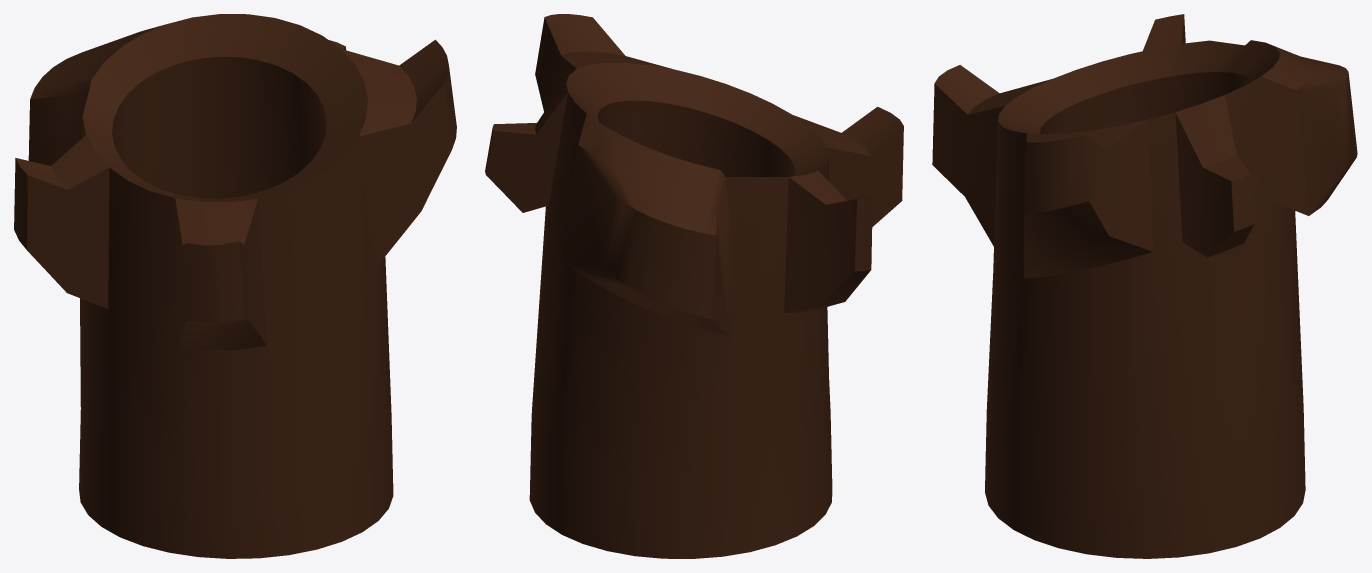
The model's file is Tronc 1.fbx.
3 renders of one model, left to right at view 1: azimuth 30°, elevation 25°; view 2: azimuth 150°, elevation 25°; view 3: azimuth 270°, elevation 25°, orthographic. The views are drawn at different scales.
Parts seen in each view (by area): view 1: Cylinder.093; view 2: Cylinder.093; view 3: Cylinder.093.
Boxes of the visible parts, bbox=[...] form: Cylinder.093: bbox=[14, 14, 456, 558]; Cylinder.093: bbox=[485, 14, 903, 558]; Cylinder.093: bbox=[932, 14, 1357, 558].
Size of the model in its own units: 794 by 857 by 749.
